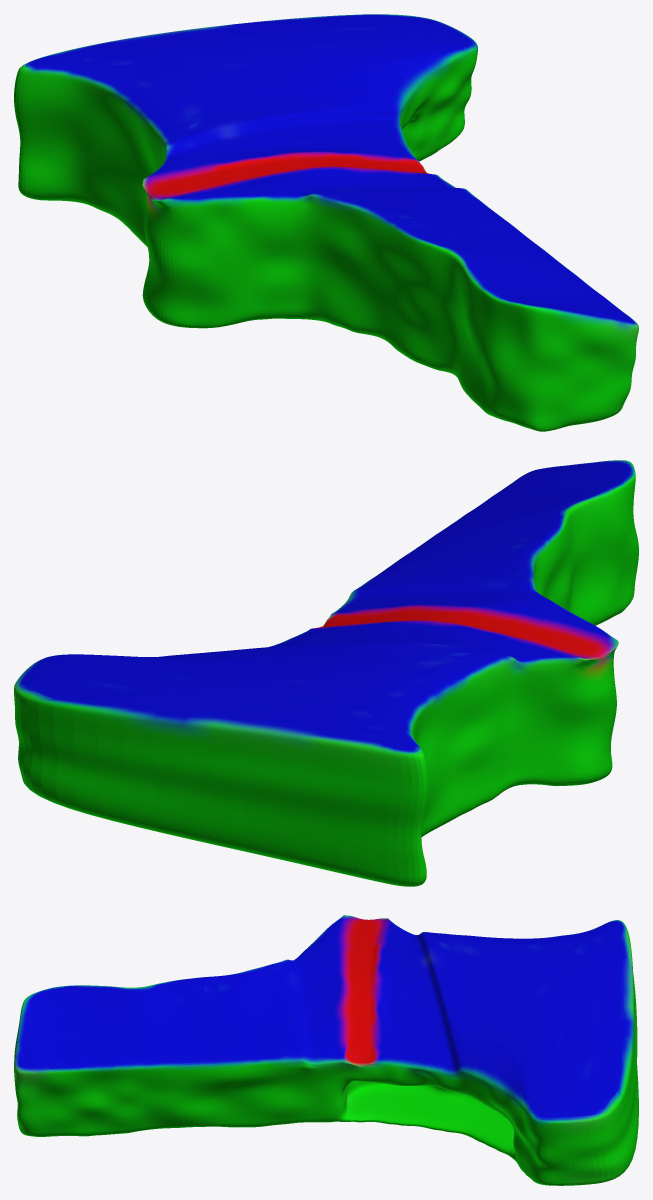
File: level_one_platform_4.fbx
The picture shows the model from 3 angles, top to bottom: view 1: azimuth 30°, elevation 25°; view 2: azimuth 150°, elevation 25°; view 3: azimuth 270°, elevation 25°; orthographic projection. The views are drawn at different scales.
Parts seen in each view (by area): view 1: Cube.005; view 2: Cube.005; view 3: Cube.005.
Boxes of the visible parts, left/top/right/bottom form: Cube.005: left=14, top=14, right=638, bottom=431; Cube.005: left=14, top=460, right=638, bottom=886; Cube.005: left=14, top=915, right=638, bottom=1185.
Size of the model in its own units: 3195 by 4737 by 1038.
